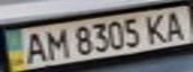0: (106, 17, 127, 51)
3: (90, 20, 112, 53)
5: (121, 15, 145, 47)
8: (72, 22, 93, 56)
A: (18, 29, 51, 64), (160, 8, 193, 42)
K: (139, 11, 172, 44)
M: (39, 26, 69, 61)
